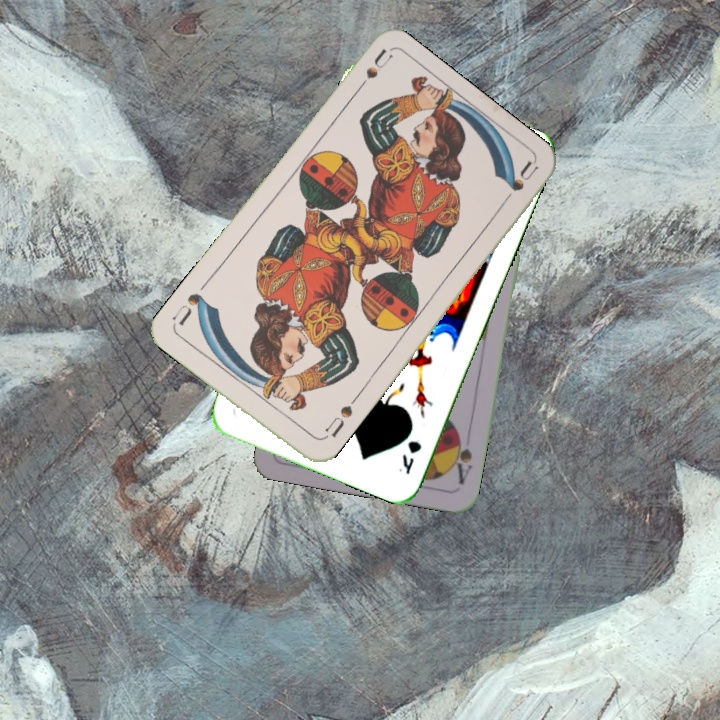GK: (394, 436, 424, 477)
SA: (447, 428, 475, 487)
SU: (349, 46, 395, 99), (321, 401, 356, 440)
